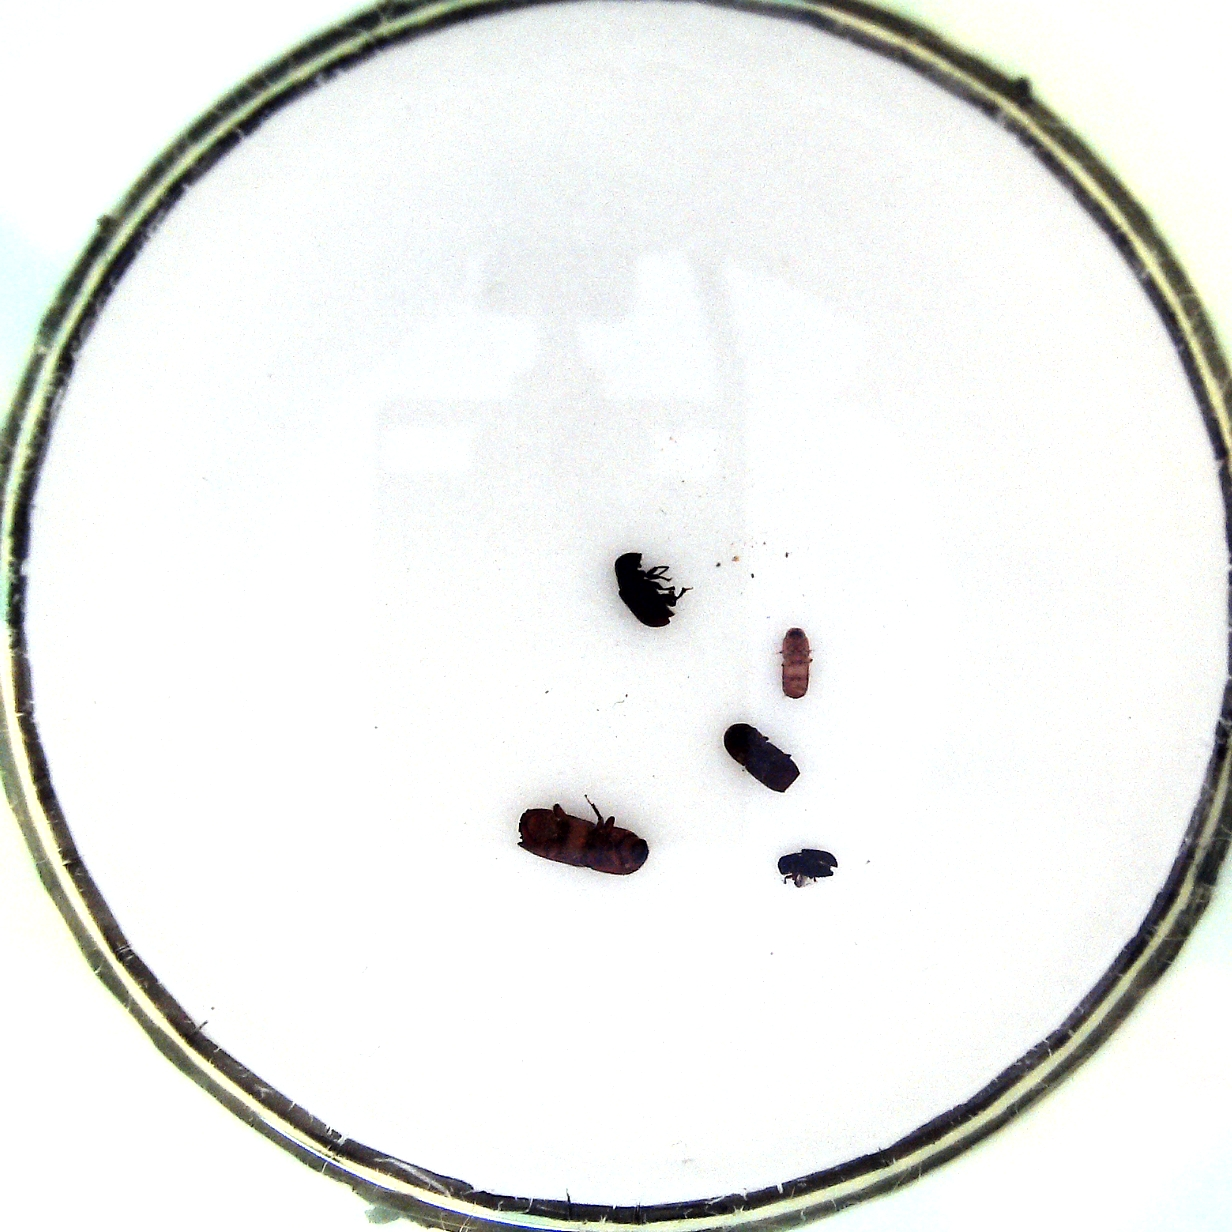Boerner: (514, 798, 651, 885)
Linnaeus: (725, 719, 809, 793)
acuminatus: (776, 619, 815, 709)
armandi: (611, 545, 692, 632)
coleoptera: (774, 839, 841, 894)
